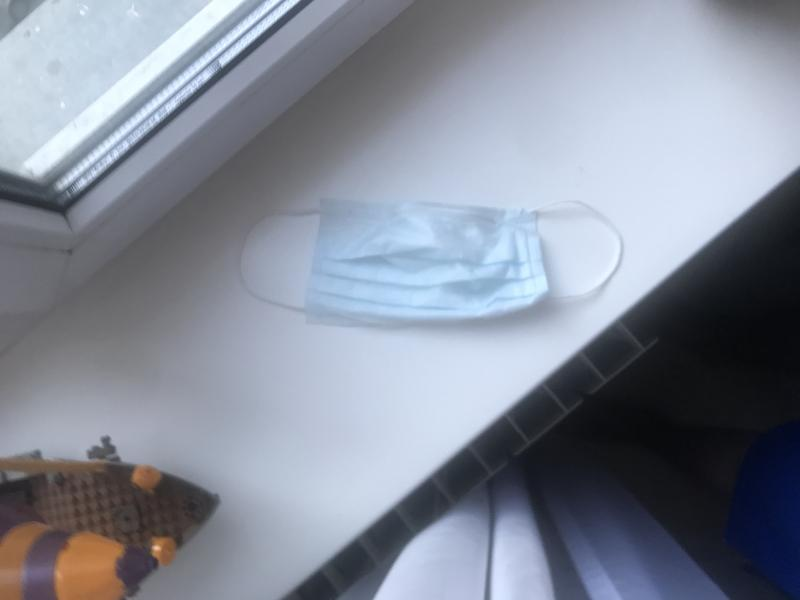medical_mask: (233, 200, 624, 311)
